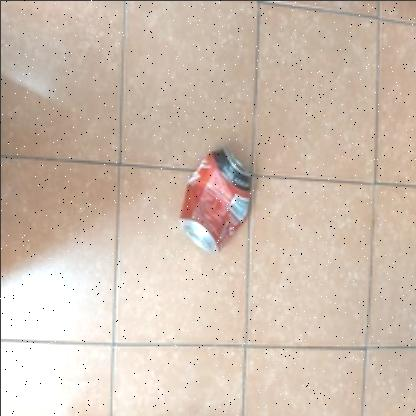Can: (176, 147, 254, 253)
